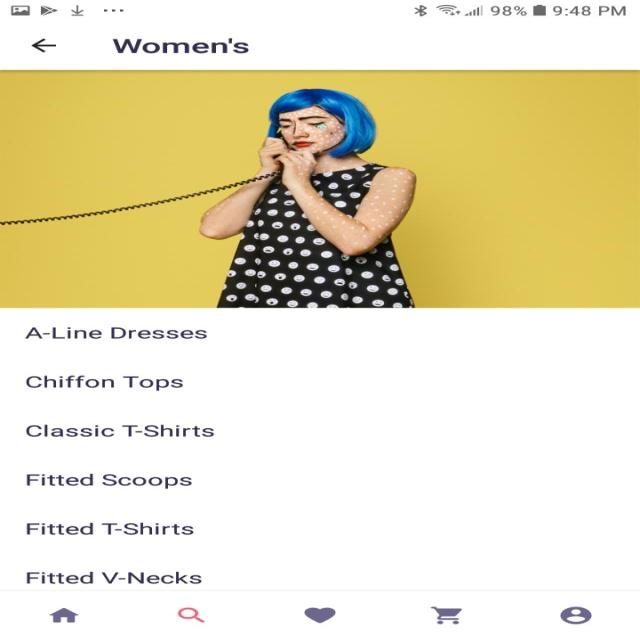Icon: (559, 605, 592, 624), (430, 605, 462, 624), (303, 606, 336, 623), (48, 608, 78, 622), (177, 607, 204, 622), (30, 38, 56, 53)
Image: (0, 70, 639, 308)
Text: (25, 374, 184, 391), (26, 473, 192, 489), (26, 424, 214, 437), (25, 326, 208, 339), (26, 571, 202, 584), (112, 38, 249, 54), (26, 522, 194, 535)
